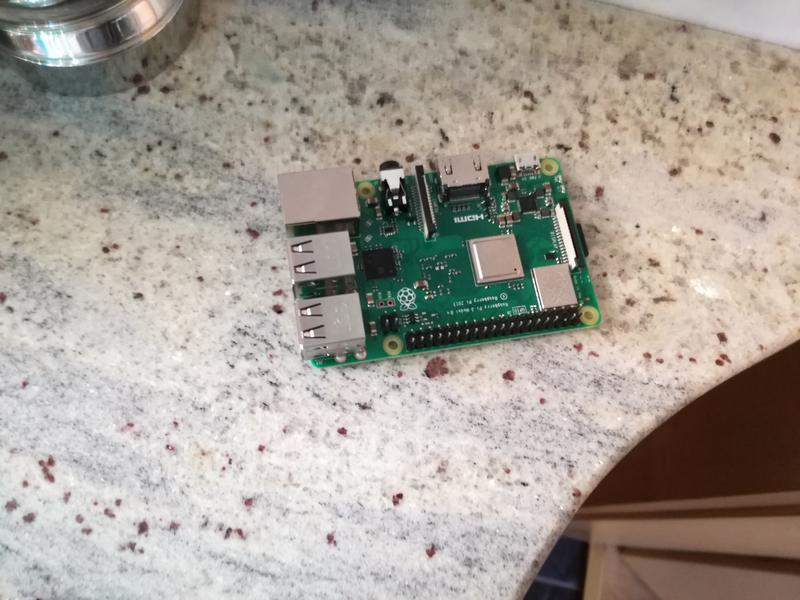Raspberry_Pi_3: (267, 150, 612, 372)
